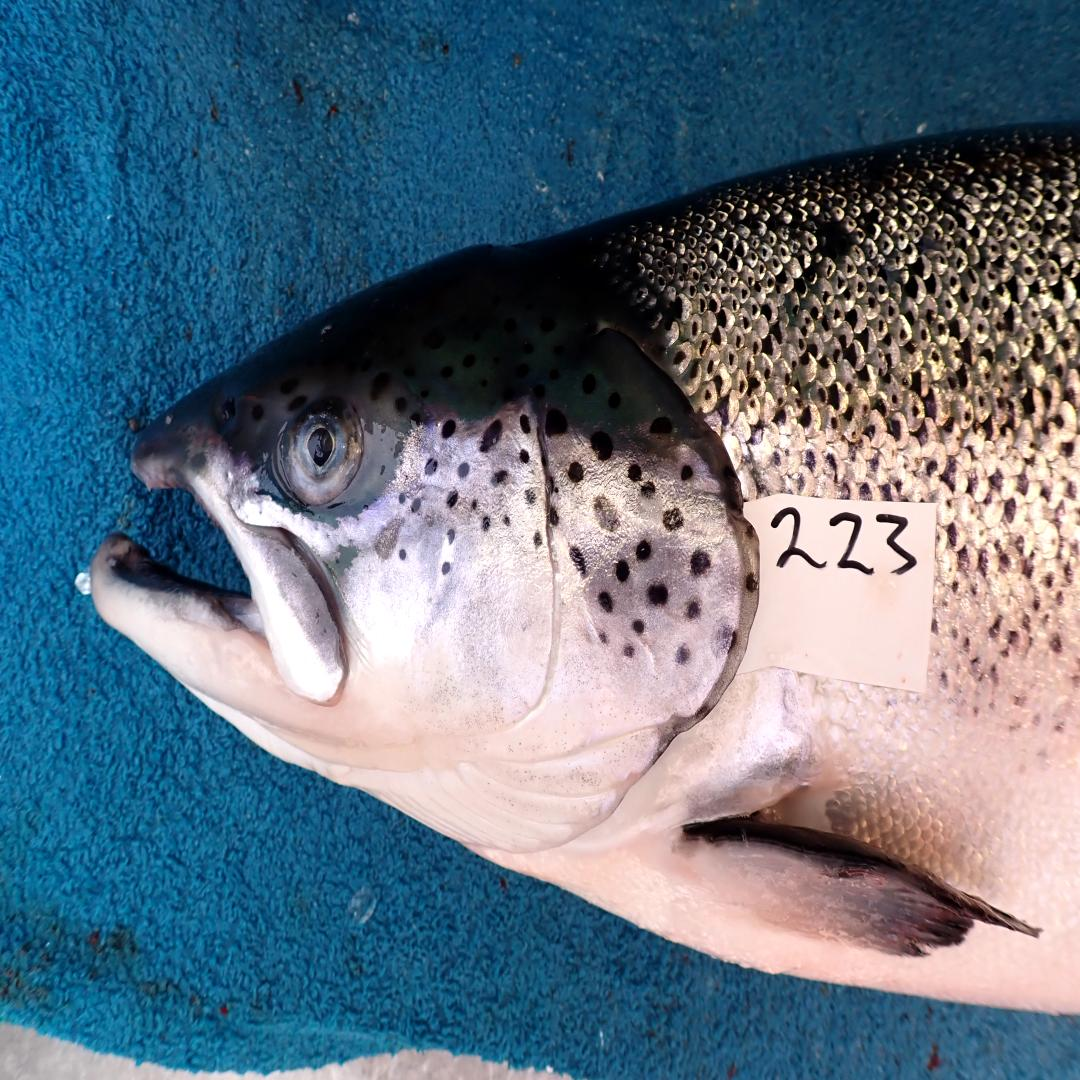roi: (343, 400, 755, 864)
